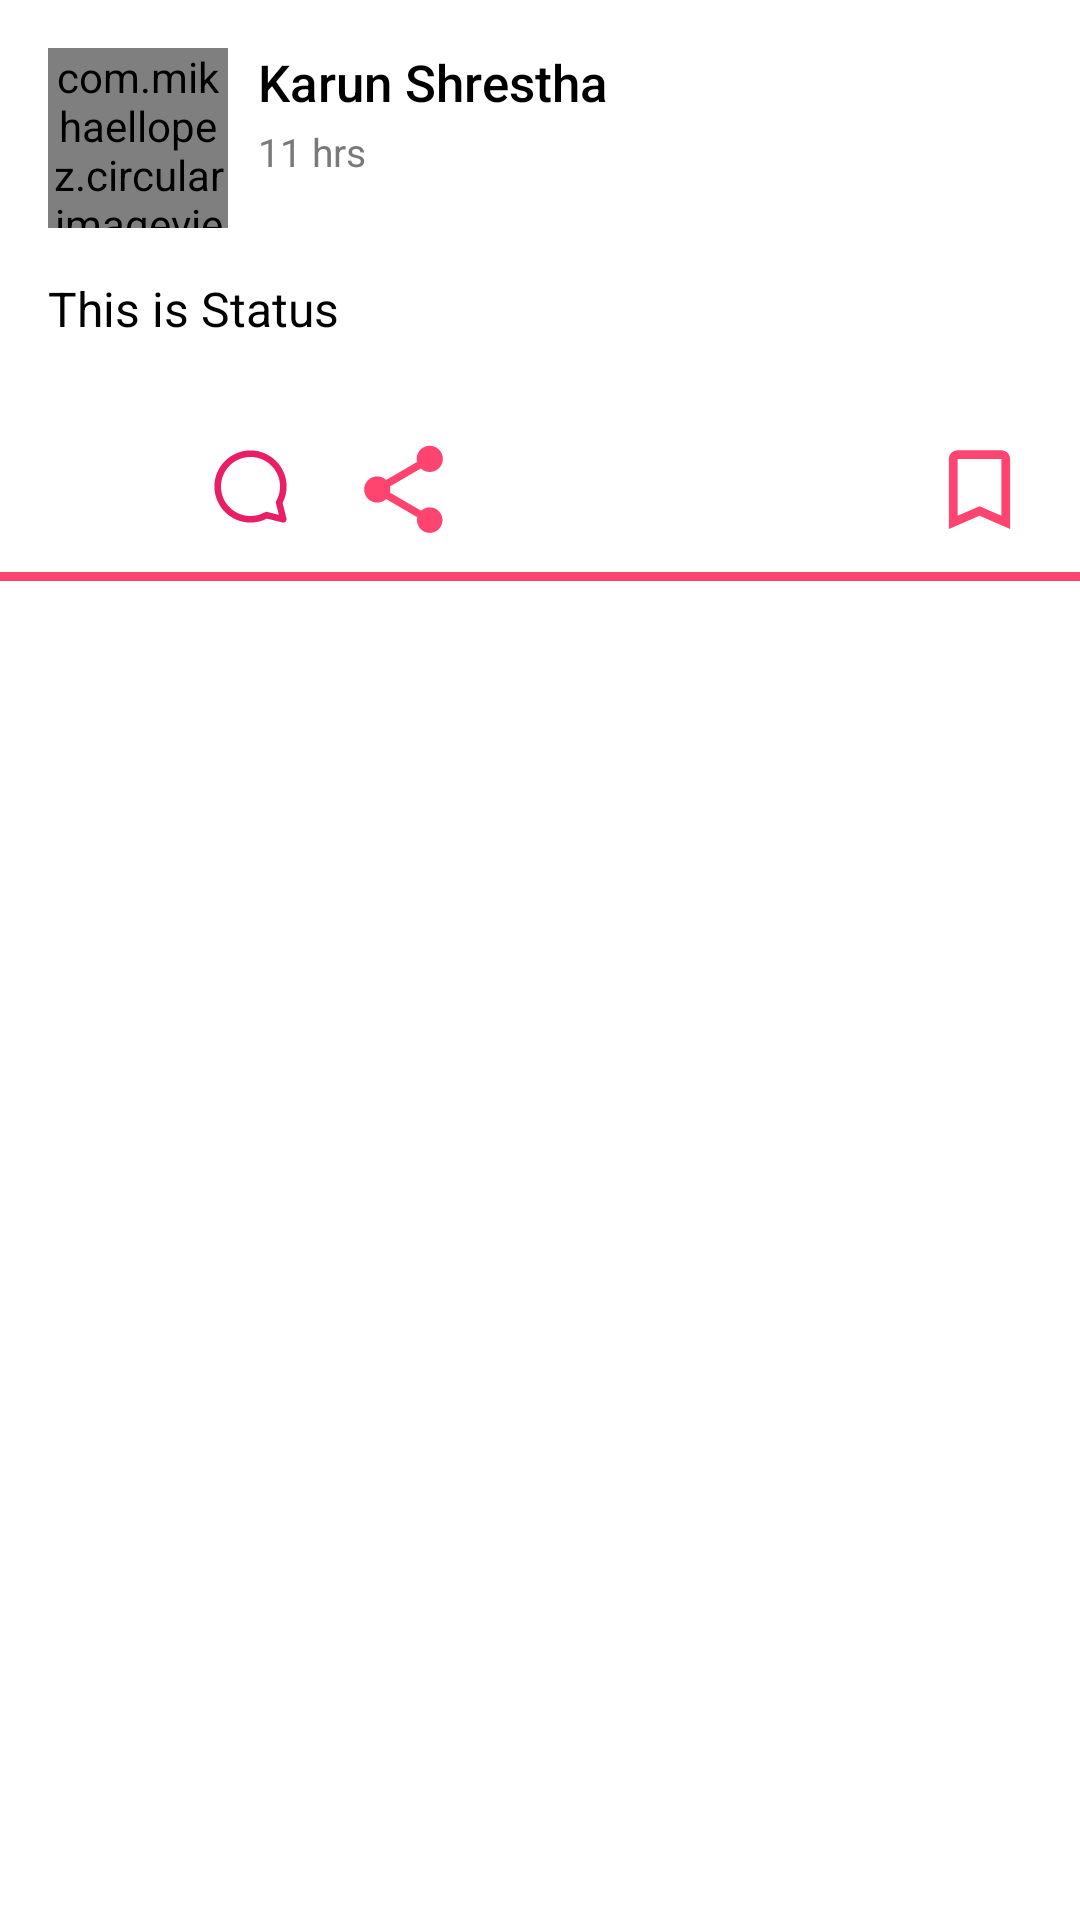

Icons on this 1080*1920 Android screen, each with the point to tap as point (x, y):
bookmark border: point (979, 489)
comment: point (250, 486)
share: point (403, 489)
